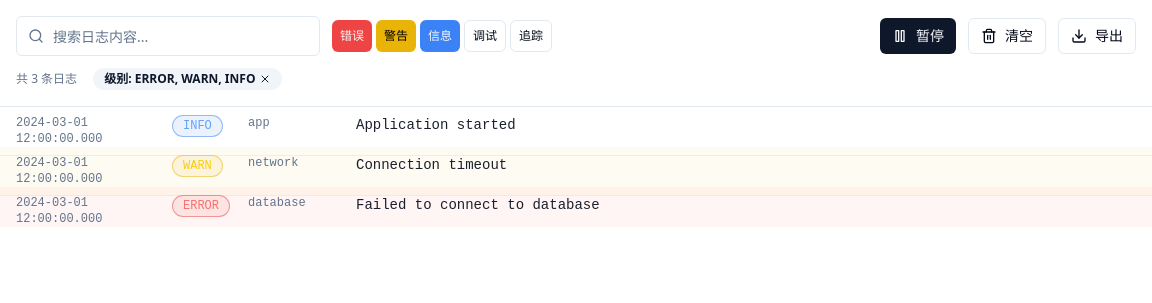
Scenario: LogViewer › 清除日志功能 › should clear logs when clicking clear button
The width and height of the screenshot is (1152, 303).
Click the button "清空". click: (1007, 36)
box: [968, 18, 1046, 54]
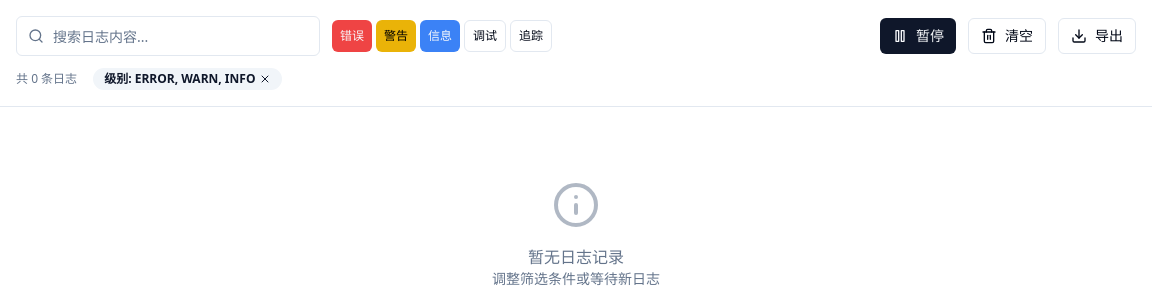
Now the text "暂无日志记录" is shown, box [528, 245, 624, 269]
